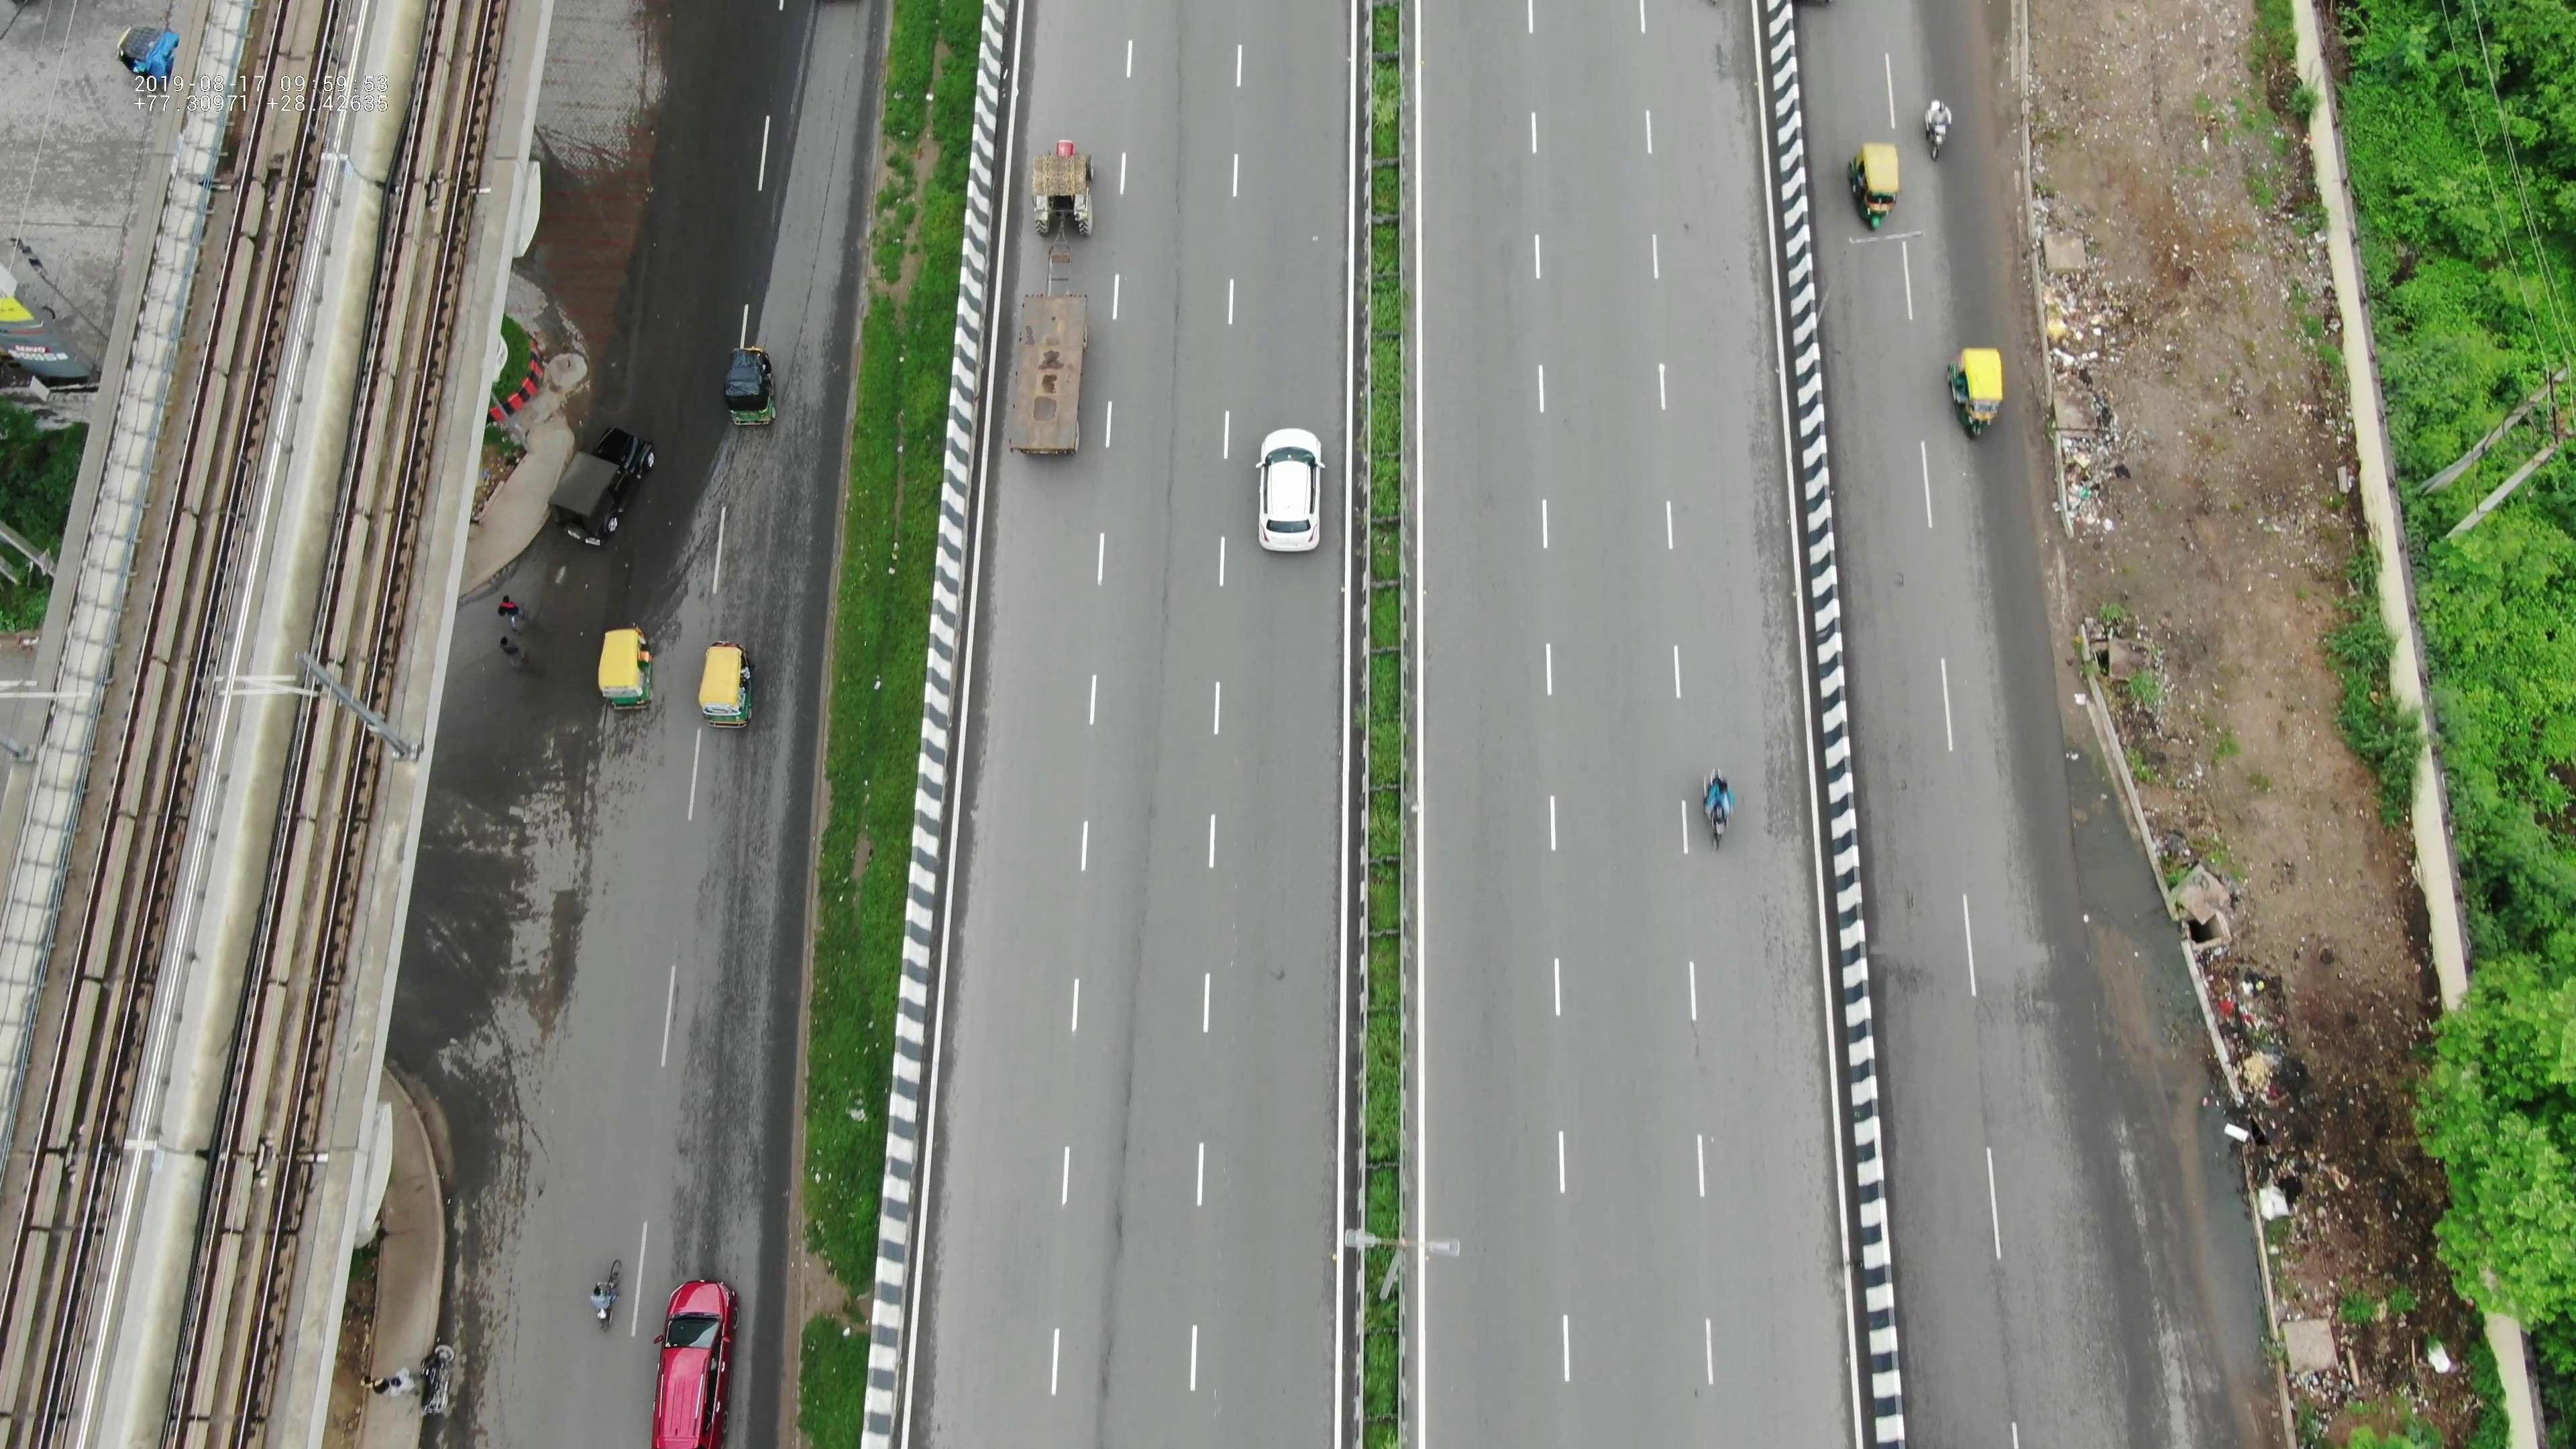Ravelling: (1143, 129, 1192, 586), (1093, 980, 1141, 1435)
Road_side_garbage: (2042, 212, 2144, 559)
Waterlogging: (640, 207, 743, 333)
